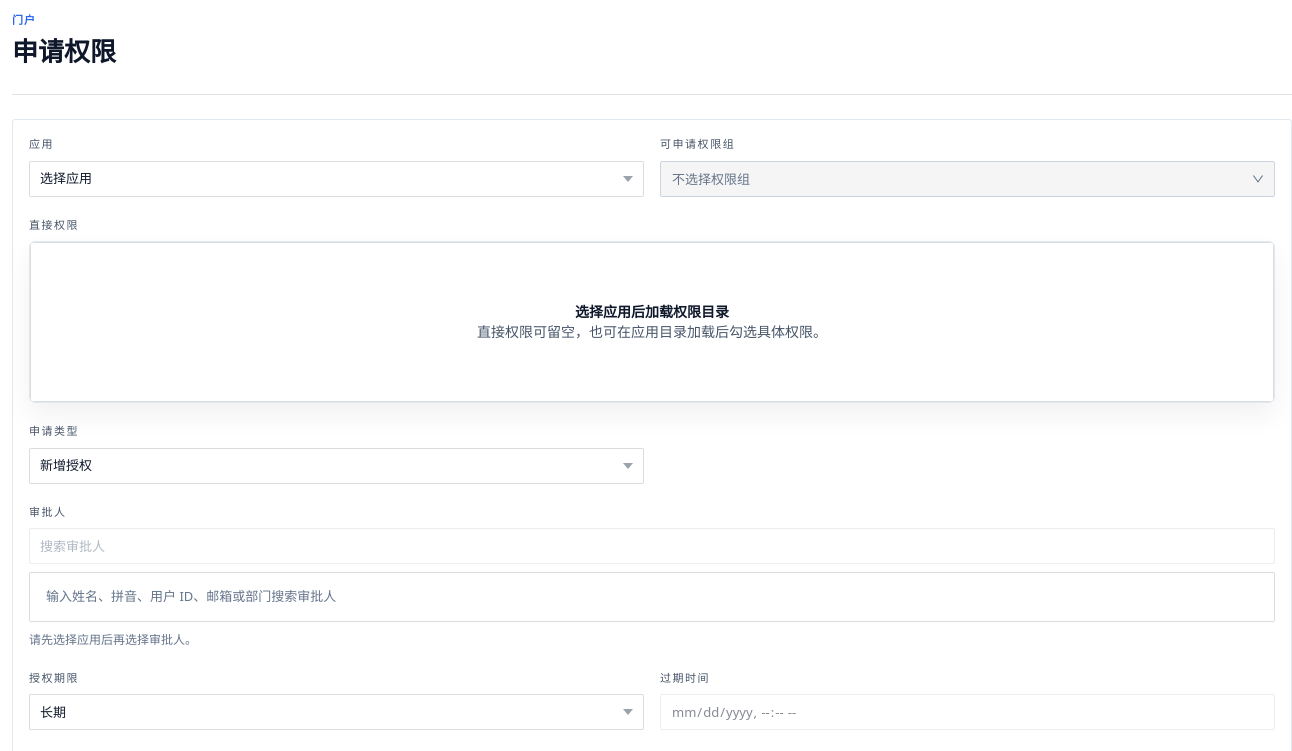
Test: PortalPage access request form › 权限分类包含超过 50 项权限时可完整选择
The width and height of the screenshot is (1292, 751).
Select "EasyTrade" in the dropdown labelled "应用" at (336, 179), box [29,161,644,197]
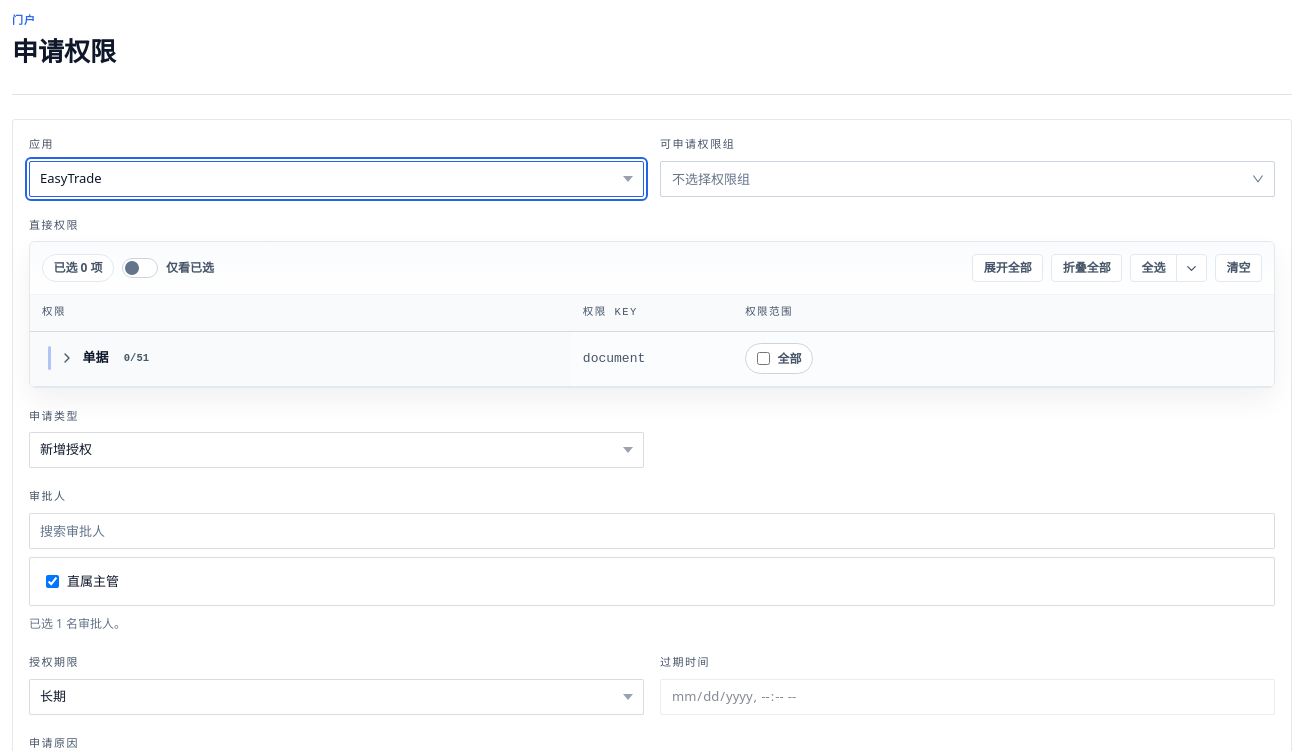
Click the checkbox named "选择权限组 document 全部" at (763, 359), box [756,352,770,365]
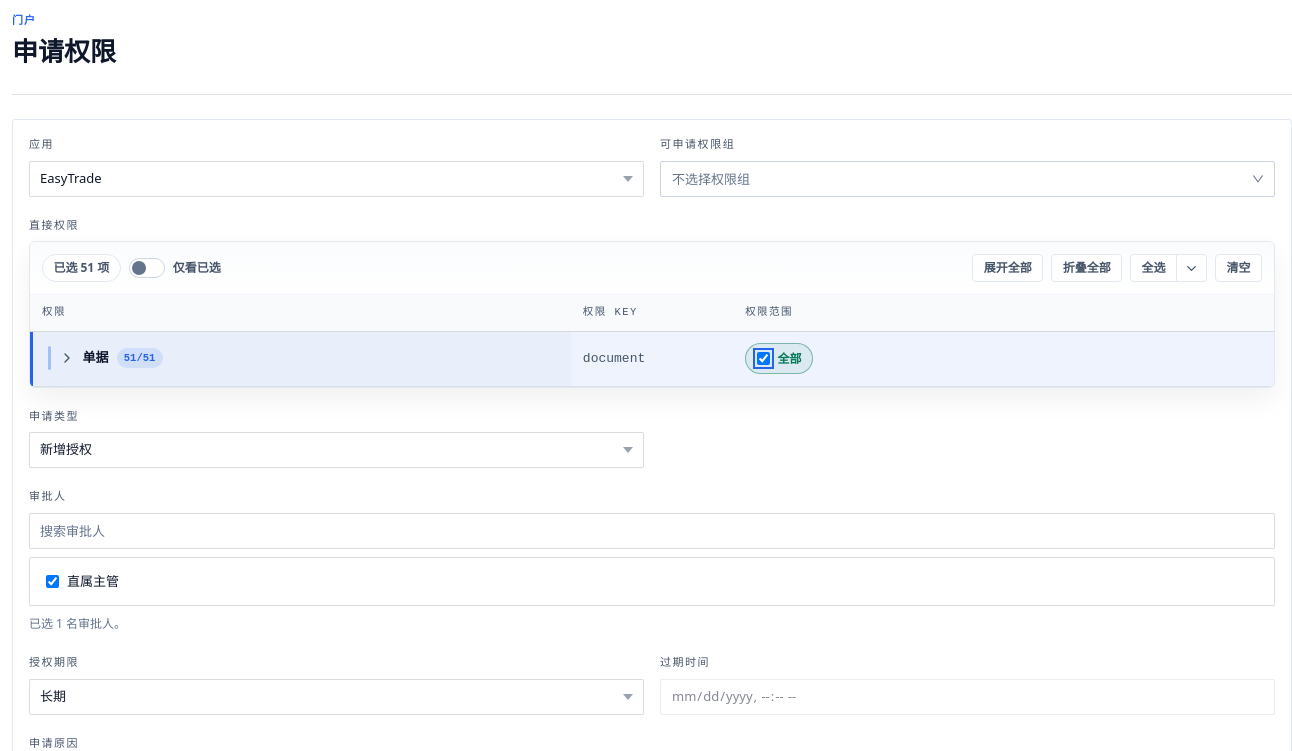
Expected: the text "已选 51 项" is shown, [42,254,121,282]
